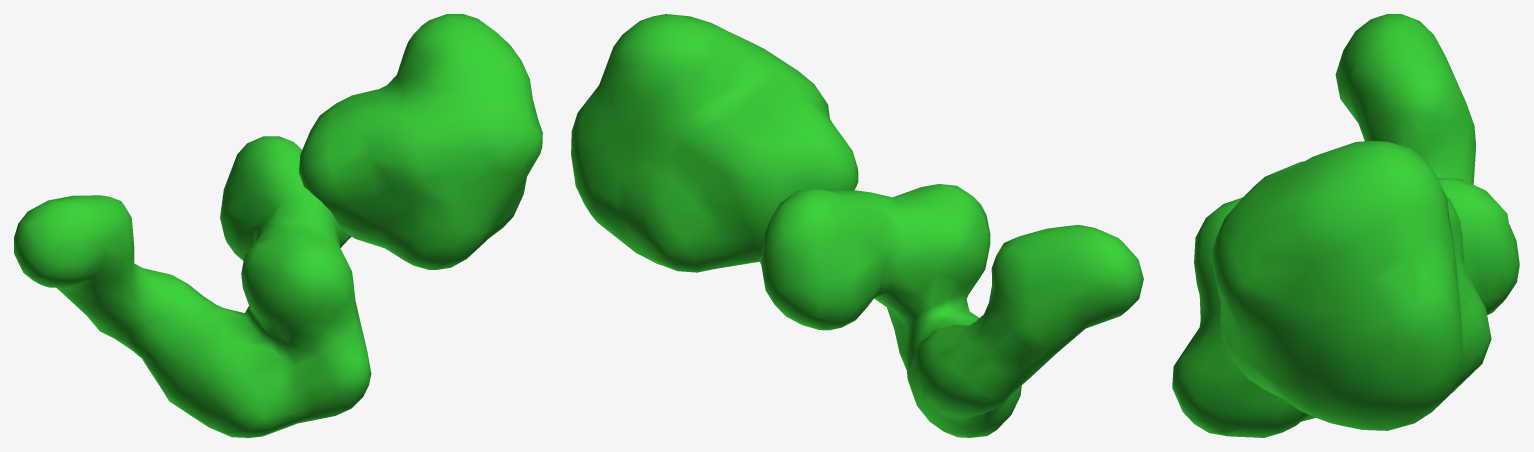
Rendered from Surf_Nef.fbx.
3 views of the same model, side by side, from view 1: azimuth 30°, elevation 25°; view 2: azimuth 150°, elevation 25°; view 3: azimuth 270°, elevation 25° (orthographic). The views are drawn at different scales.
Visible parts, largest first — view 1: CoarseMS_1qa5_1; view 2: CoarseMS_1qa5_1; view 3: CoarseMS_1qa5_1.
Boxes of the visible parts, x1=… form: CoarseMS_1qa5_1: x1=14, y1=14, x2=542, y2=437; CoarseMS_1qa5_1: x1=571, y1=14, x2=1143, y2=437; CoarseMS_1qa5_1: x1=1172, y1=14, x2=1519, y2=437.
Bounding box in the file's own units: 100 × 62.73 × 45.84.
